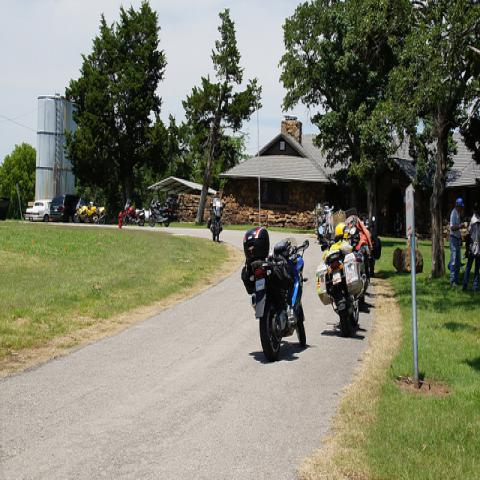car: (50, 192, 88, 223), (32, 200, 52, 222)
motorcycle: (241, 226, 308, 362), (316, 215, 373, 338), (206, 198, 224, 244), (122, 196, 145, 228), (148, 195, 170, 228), (74, 198, 99, 223), (320, 204, 335, 242)
truck: (49, 193, 80, 223)
